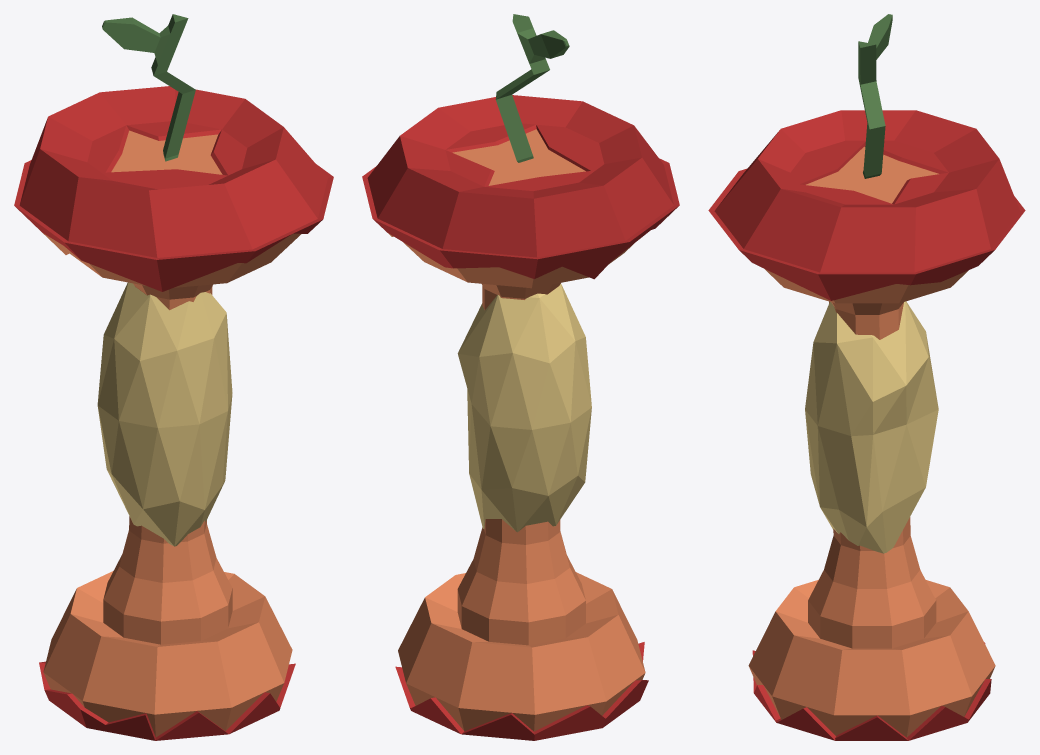
File: maca2.fbx
The picture shows the model from 3 angles, left to right: view 1: azimuth 30°, elevation 25°; view 2: azimuth 150°, elevation 25°; view 3: azimuth 270°, elevation 25°; orthographic projection. The views are drawn at different scales.
Visible parts, largest first — view 1: Cylinder; view 2: Cylinder; view 3: Cylinder.
Boxes of the visible parts, box(x1,y1,x2,y2) form: Cylinder: box(14, 14, 333, 740); Cylinder: box(362, 14, 679, 740); Cylinder: box(708, 14, 1025, 740).
Bounding box in the file's own units: 38.28 × 91.59 × 40.25.
